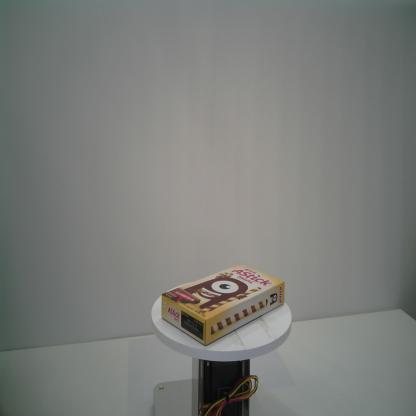Dessert: (161, 264, 284, 346)
